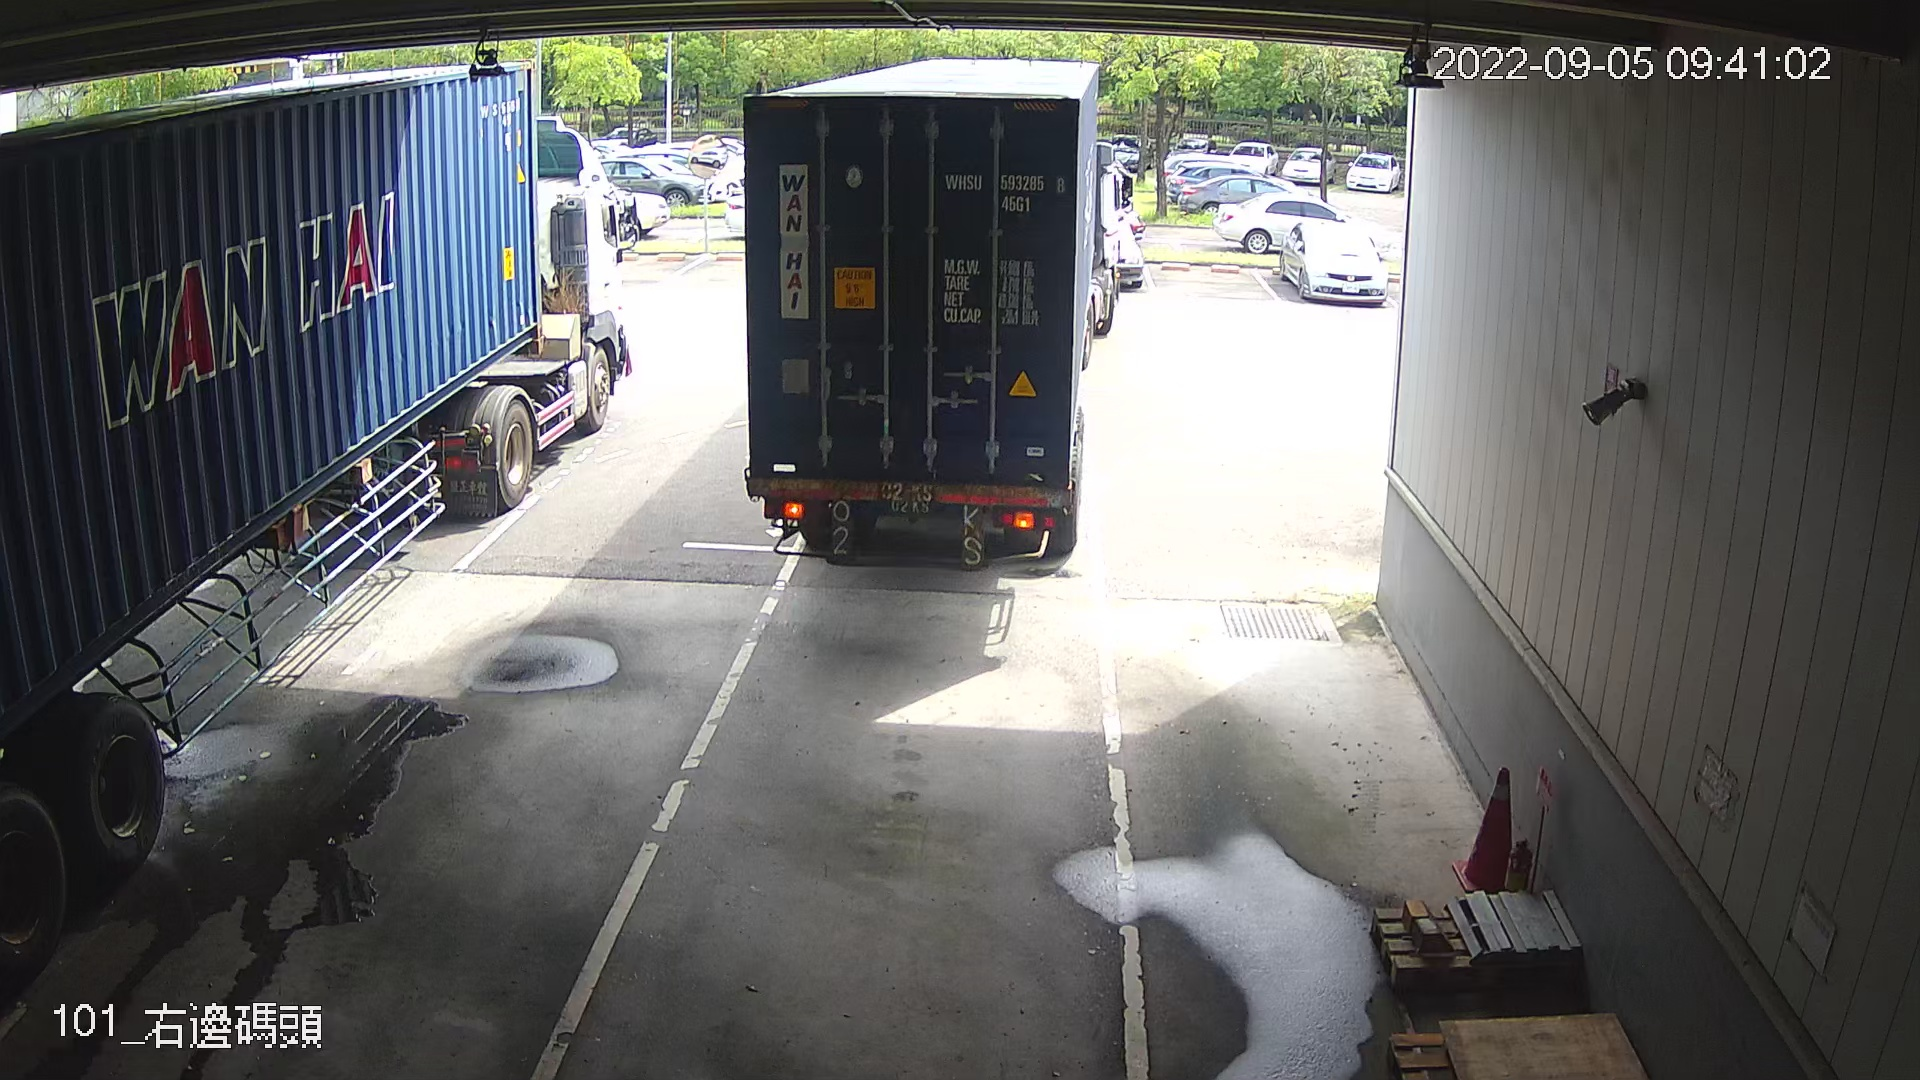container: (938, 166, 1069, 218)
